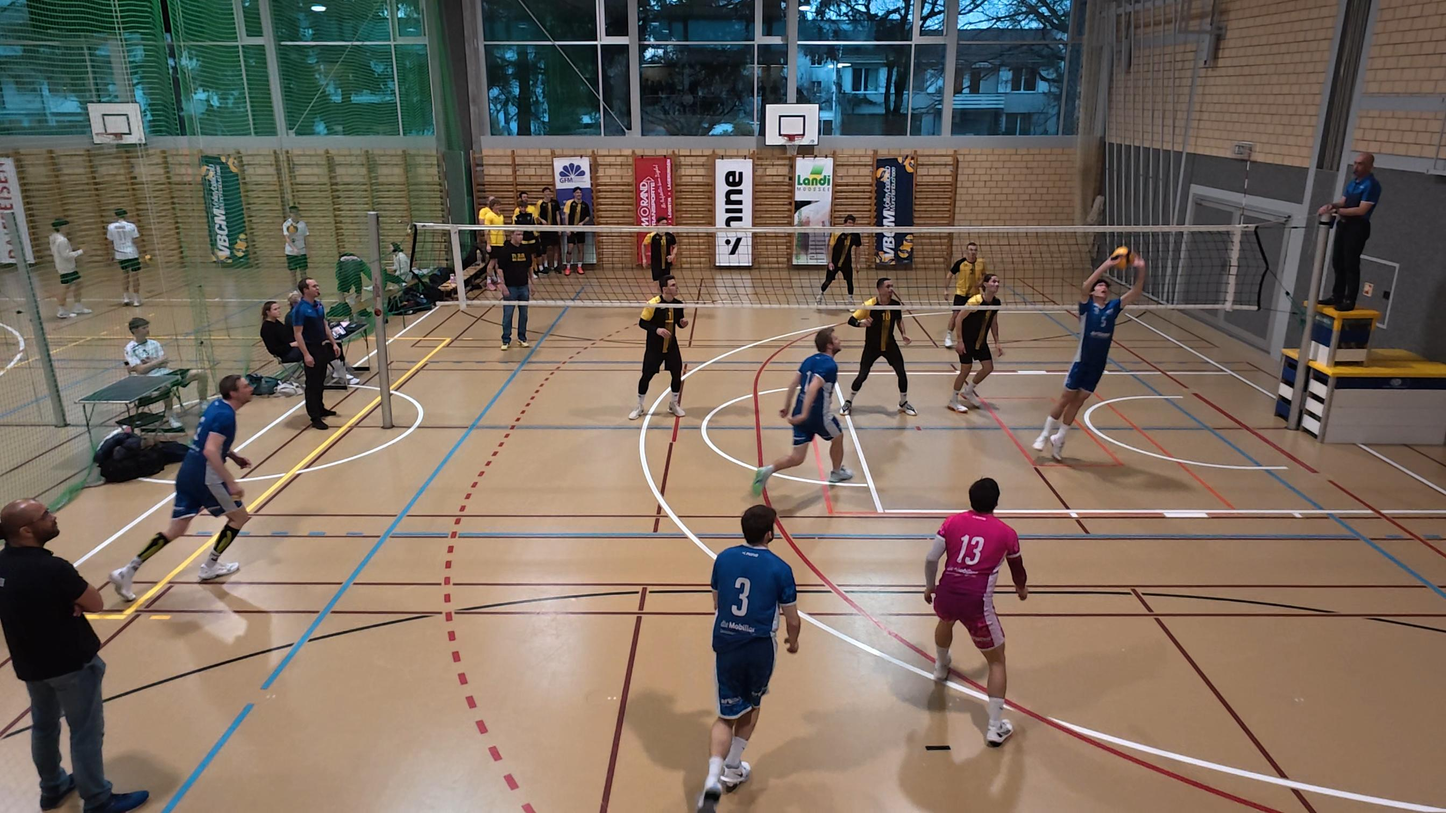alzata: (1029, 252, 1144, 462)
